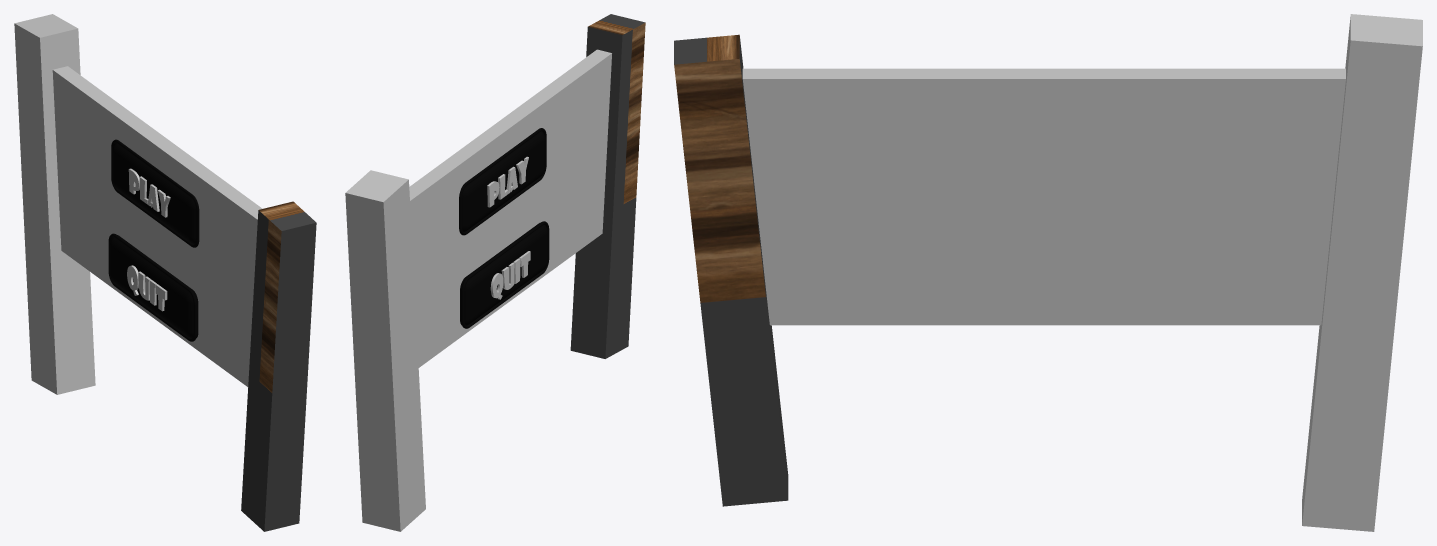
The model's file is wood banner.fbx.
The picture shows the model from 3 angles, left to right: view 1: azimuth 30°, elevation 25°; view 2: azimuth 150°, elevation 25°; view 3: azimuth 270°, elevation 25°; orthographic projection. The views are drawn at different scales.
Parts seen in each view (by area): view 1: main_wood, quit, play; view 2: main_wood, quit, play; view 3: main_wood.
Boxes of the visible parts, x1,y1,x2,y2 form: main_wood: (14,14,316,531); quit: (108,233,198,341); play: (111,139,199,247); main_wood: (345,14,645,531); quit: (460,221,549,328); play: (459,128,546,235); main_wood: (674,14,1422,531).
Bounding box in the file's own units: 10.23 × 88.76 × 123.
